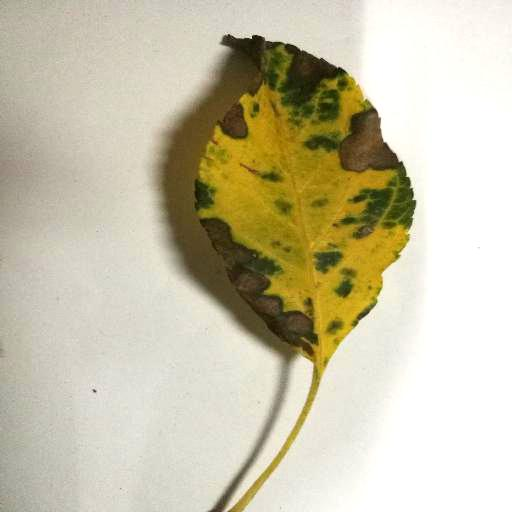Brown_Spot: (212, 226, 315, 359), (344, 123, 392, 174), (281, 48, 339, 89), (226, 103, 256, 137)
